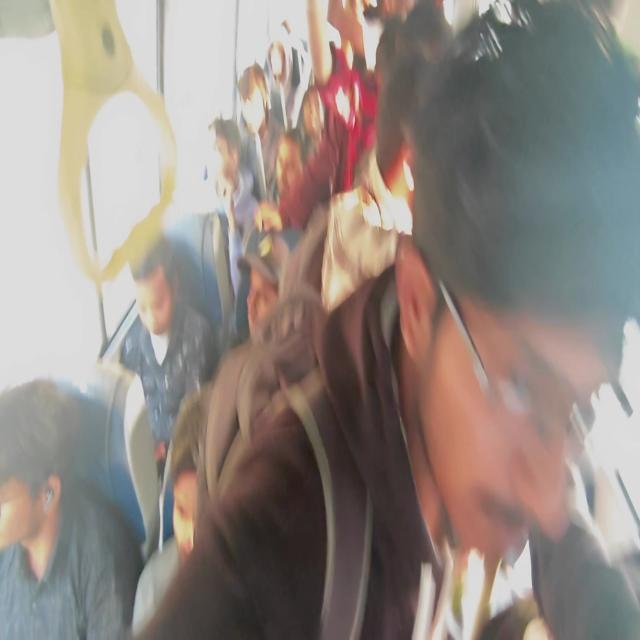person: (131, 1, 639, 637), (0, 376, 145, 638), (118, 232, 221, 470), (165, 115, 250, 338), (234, 225, 290, 345)
